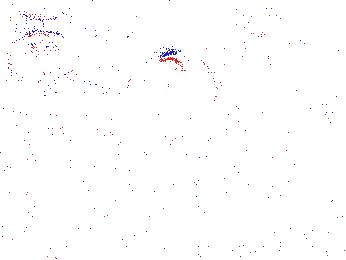moon jellyfish: (149, 51, 219, 145), (68, 24, 149, 91), (219, 33, 312, 89), (2, 68, 69, 137)
